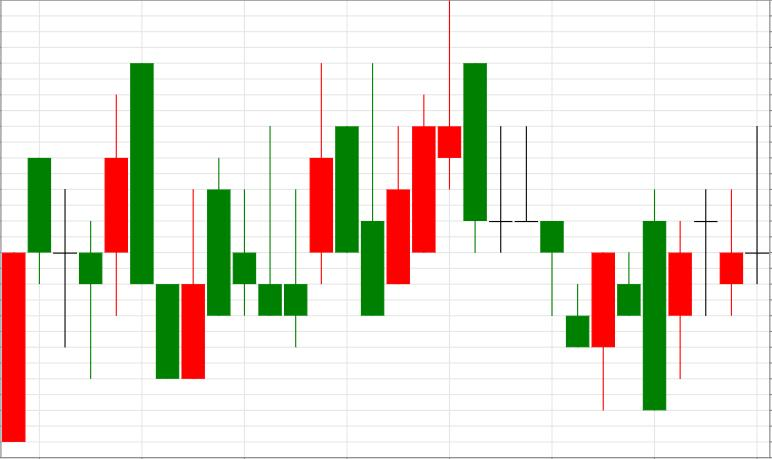bullish_engulfing_rise: (464, 63, 614, 411)
